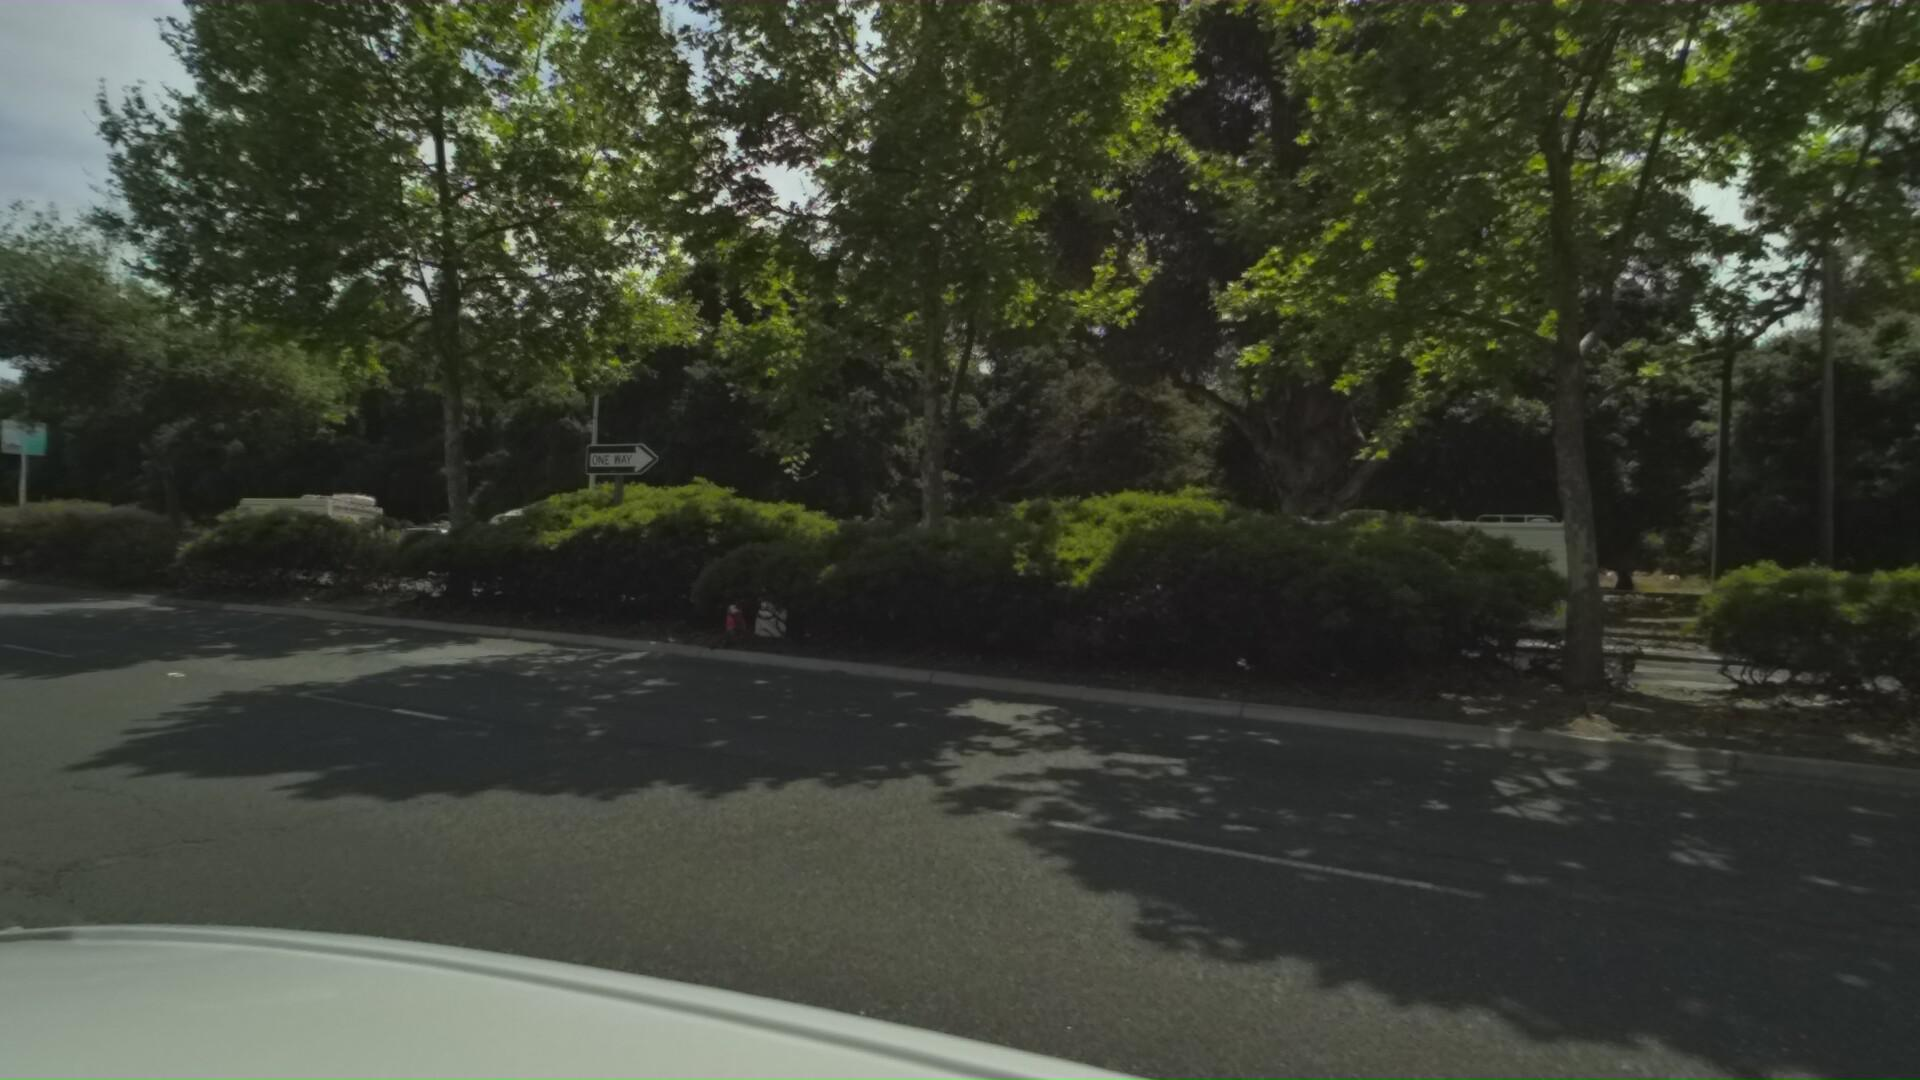bus: (0, 488, 12, 553)
car: (342, 513, 473, 585)
other_vehicle: (1147, 500, 1571, 673), (434, 500, 640, 596), (211, 491, 386, 574)
